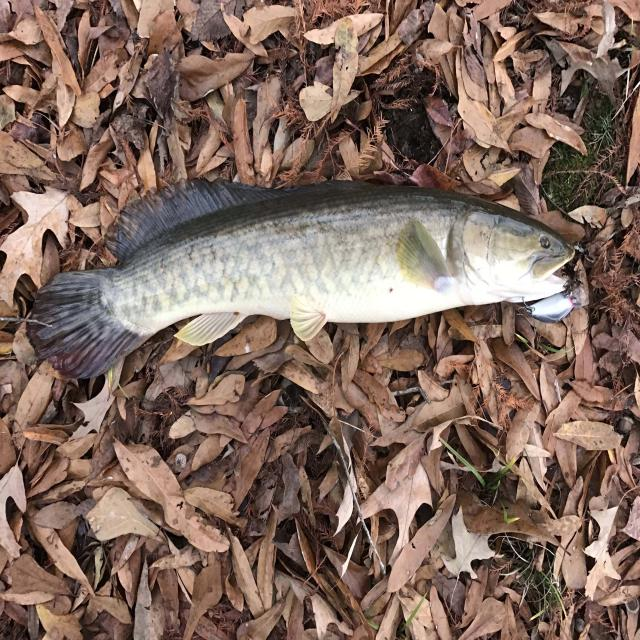Bowfin: (30, 180, 574, 378)
